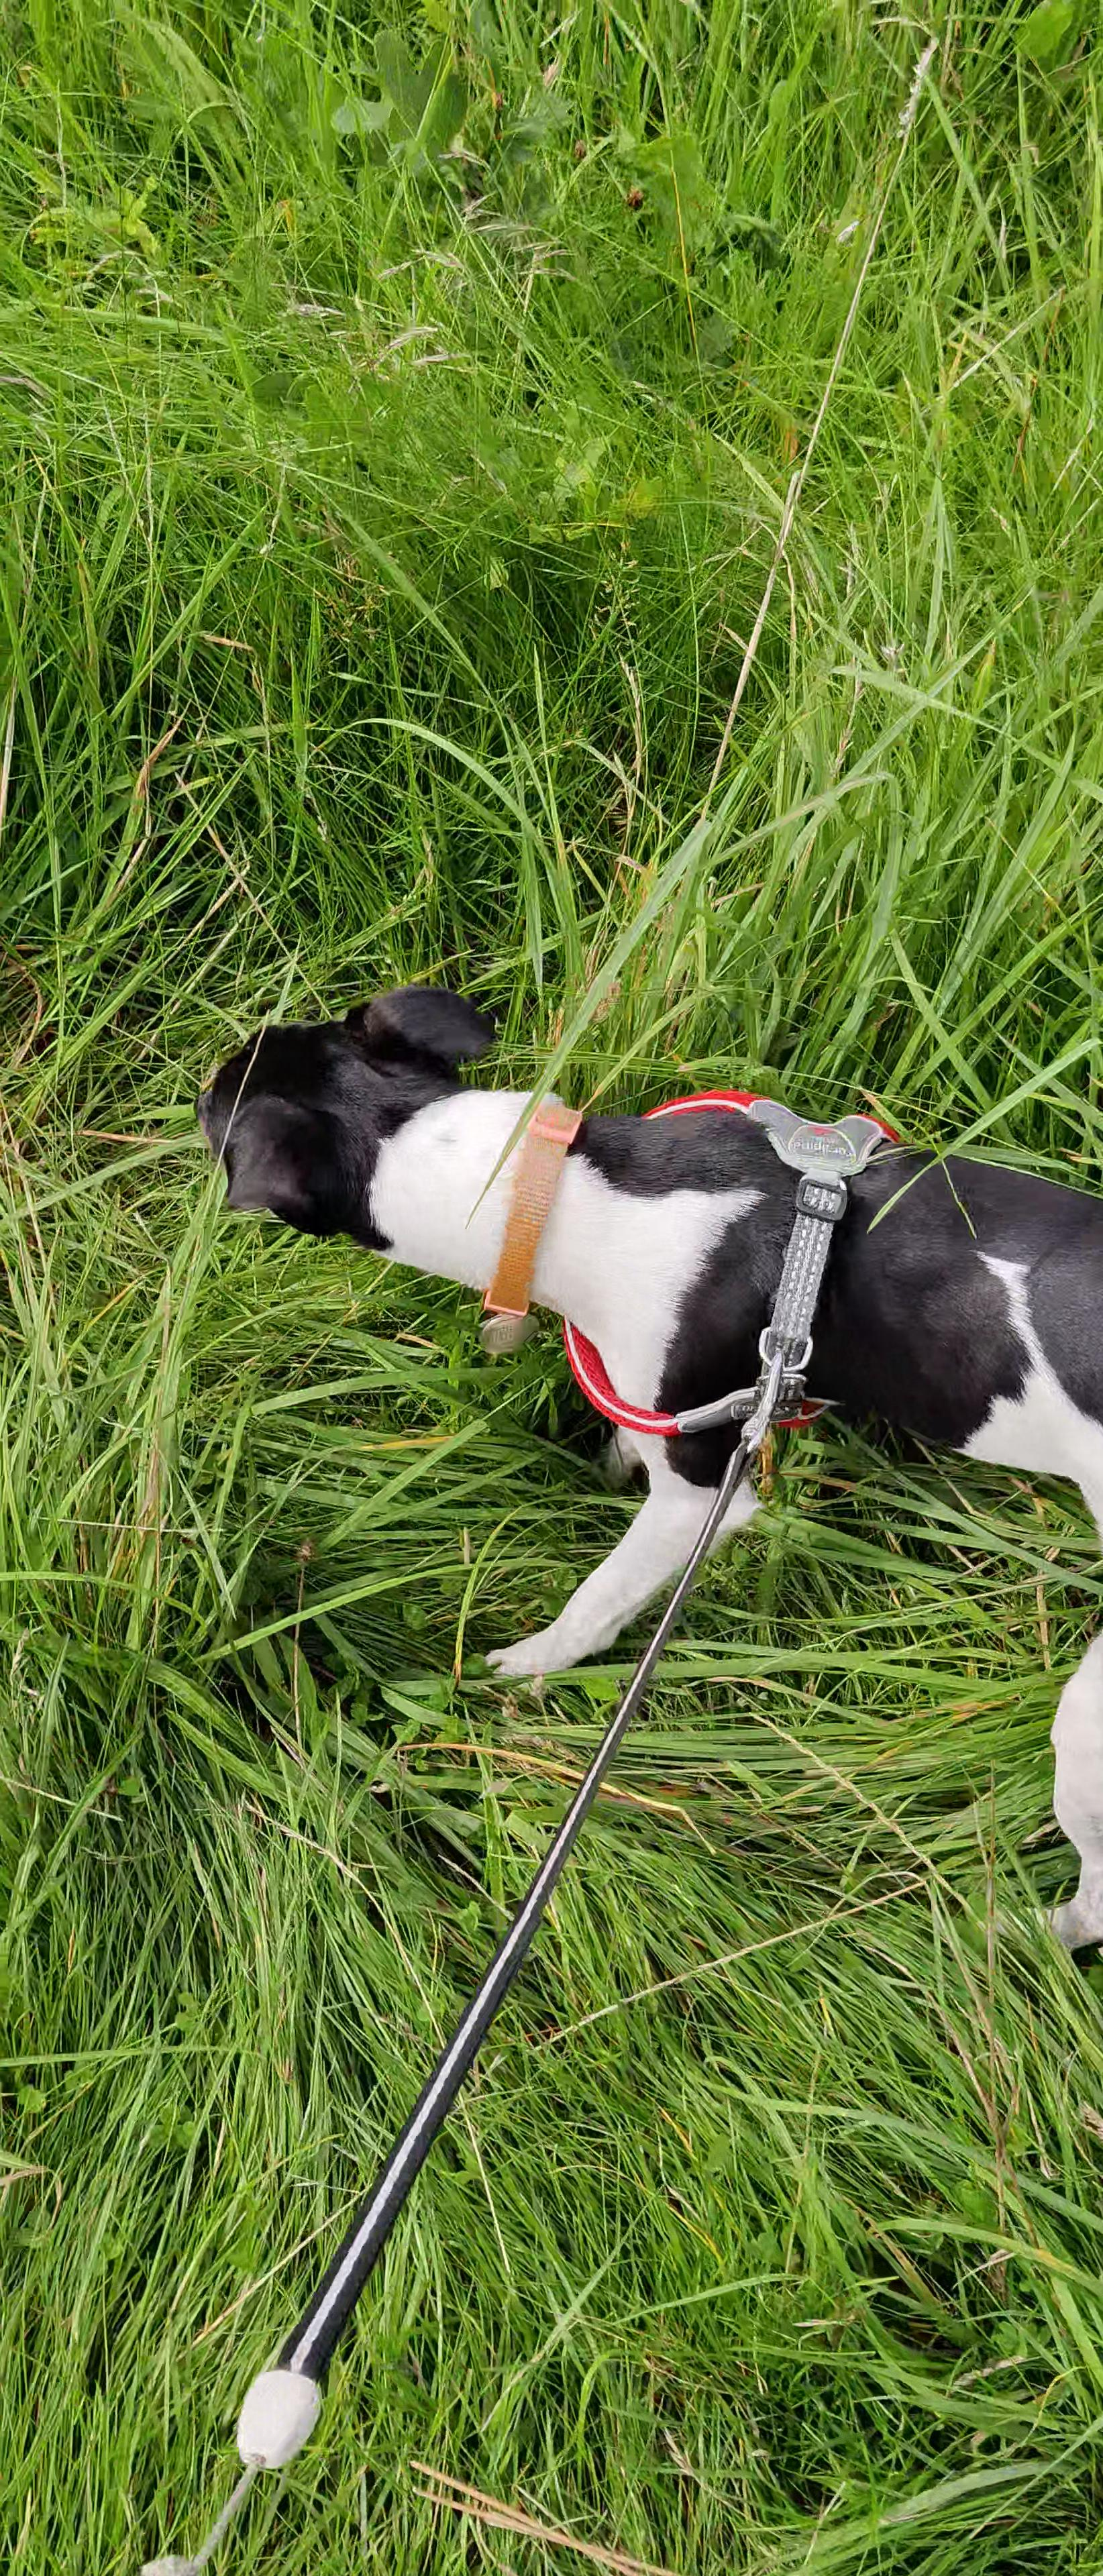Dog: (173, 956, 1103, 1988)
